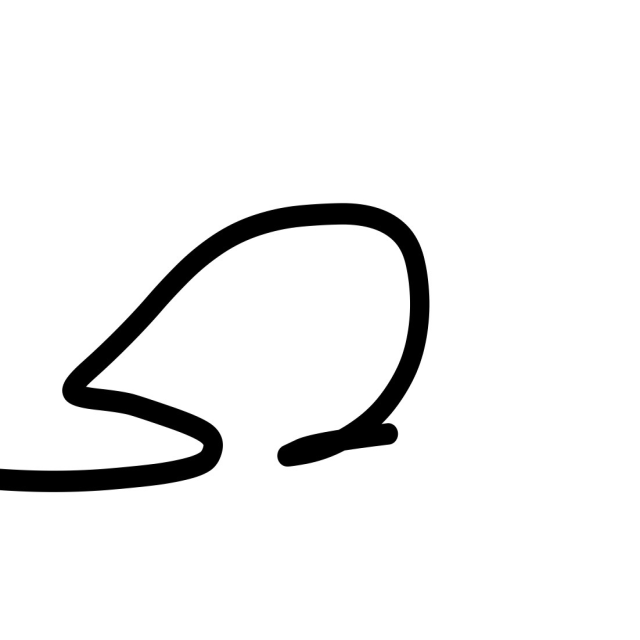ohms: (25, 116, 537, 613)
